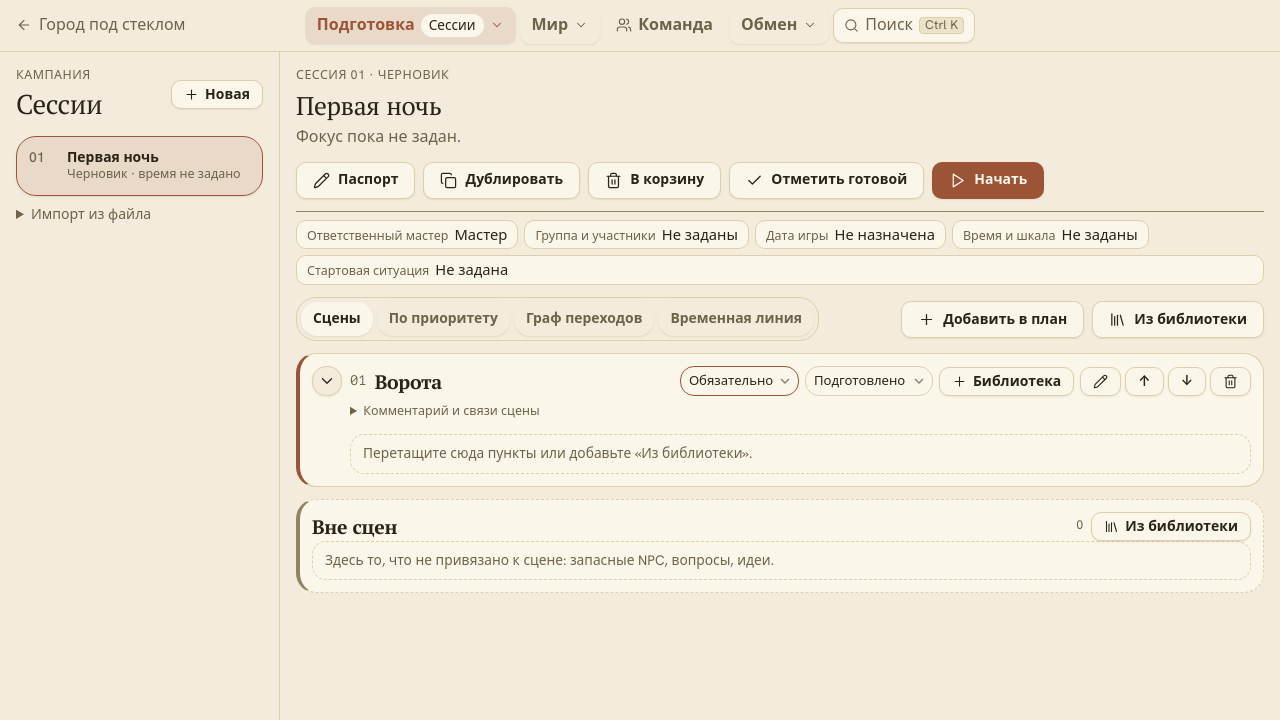
session lifecycle › duplicates a session, trashes it and restores it without reusing its number
The image size is (1280, 720).
Click the button "Дублировать". click: (502, 180)
box: [423, 162, 580, 198]
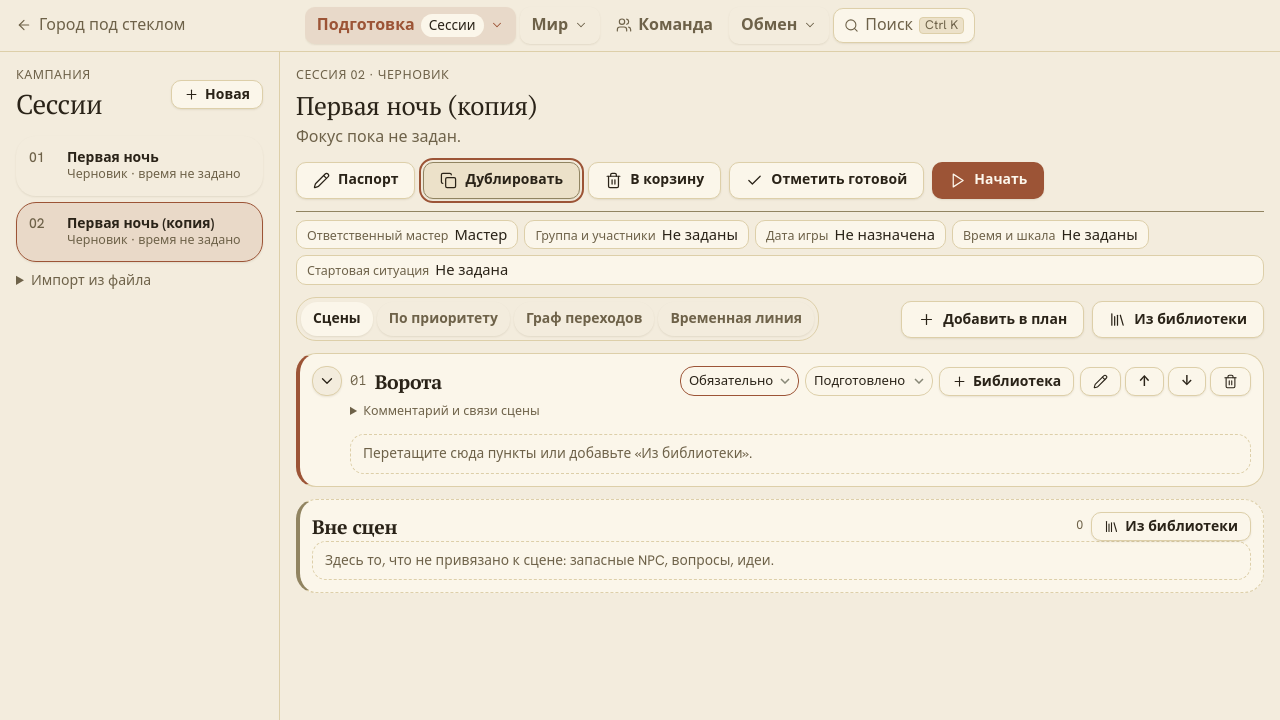
Now the heading "Первая ночь (копия)" is shown, box [296, 85, 537, 122]
Click the button "В корзину". click: (655, 180)
box: [588, 162, 721, 198]
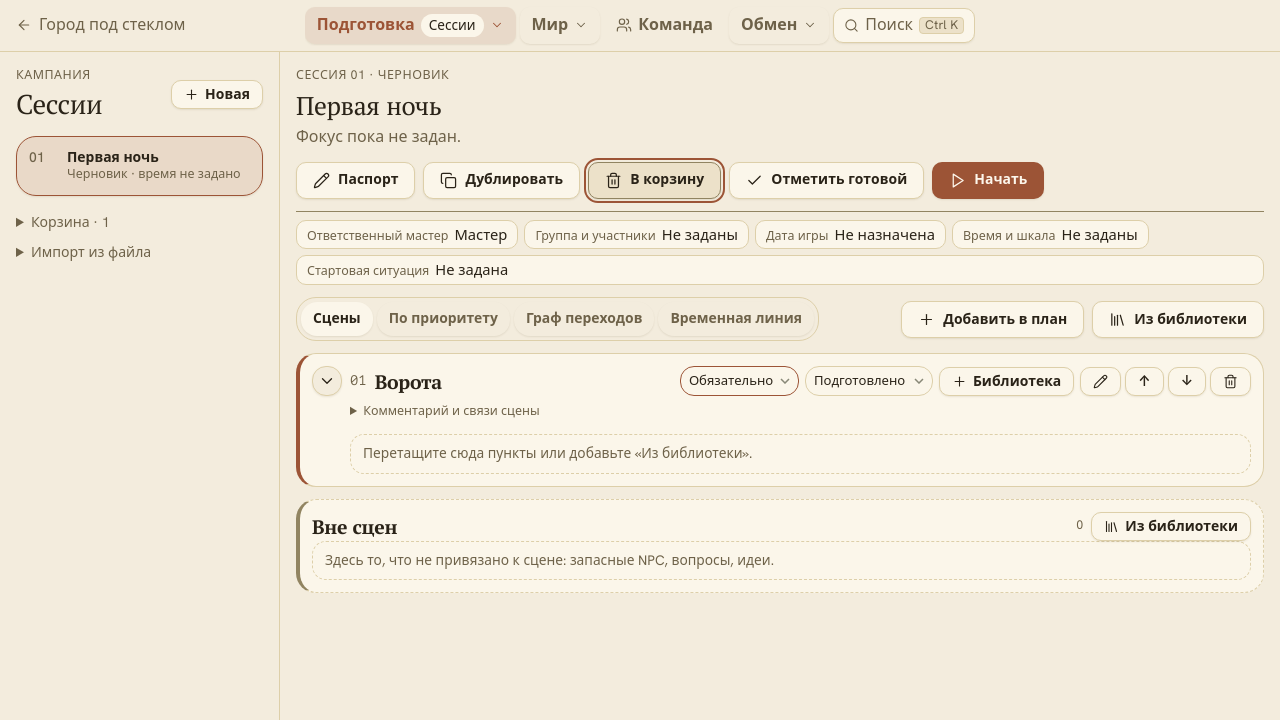
Now the button "Первая ночь (копия)" is gone
Click the heading "Корзина · 1". click: (70, 222)
box: [31, 213, 110, 231]
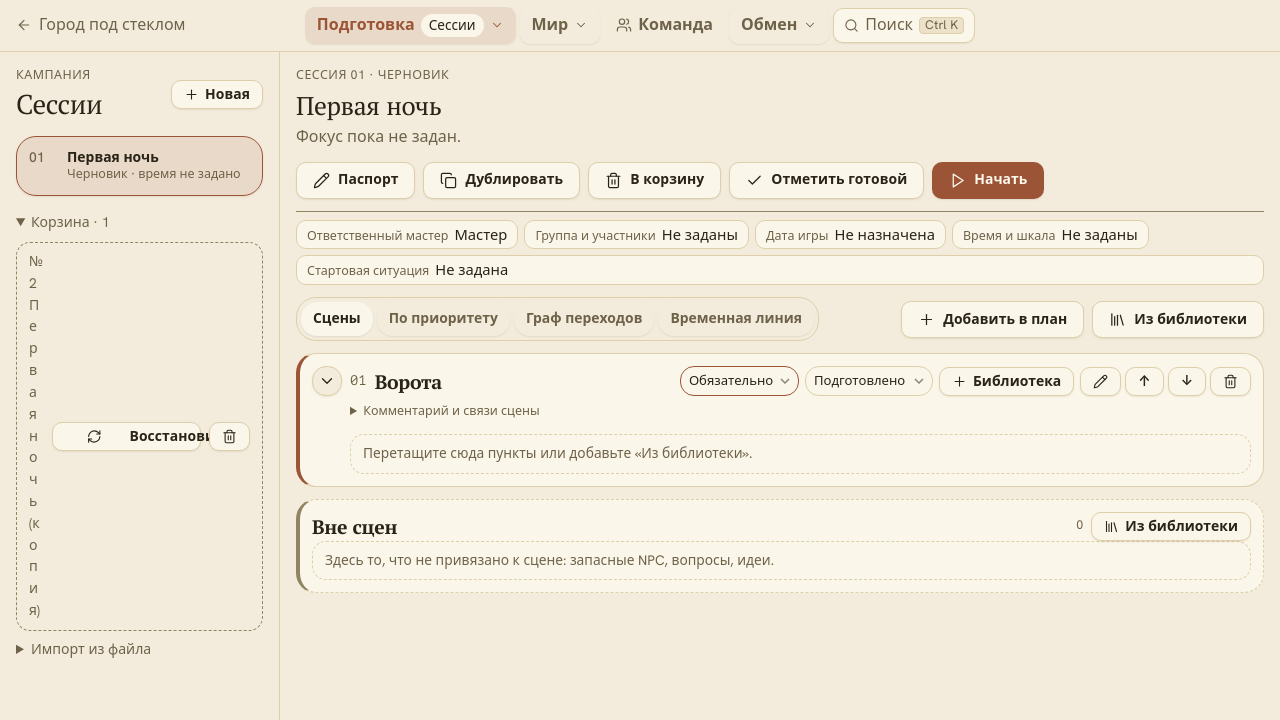
Click the button "Восстановить". click: (126, 436)
box: [52, 422, 201, 451]
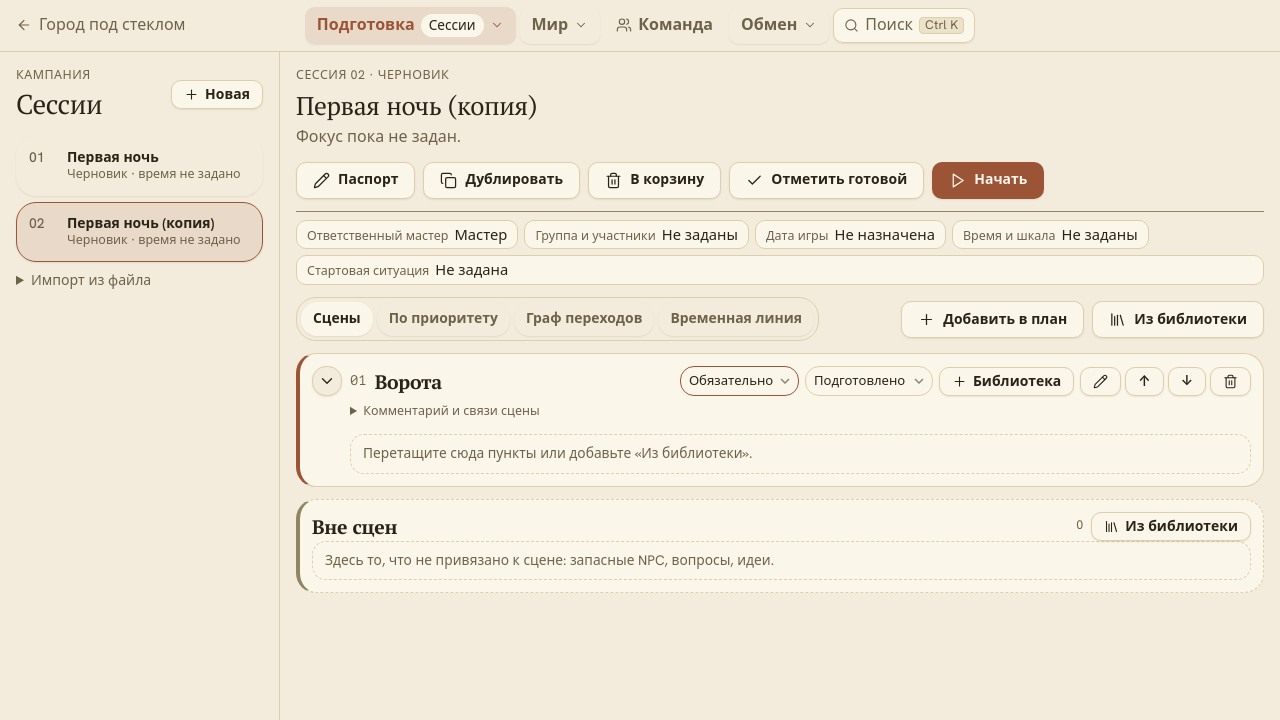
Now the heading "Первая ночь (копия)" is shown, box [296, 85, 537, 122]
Click the button "Новая". click: (217, 94)
box: [171, 80, 263, 109]
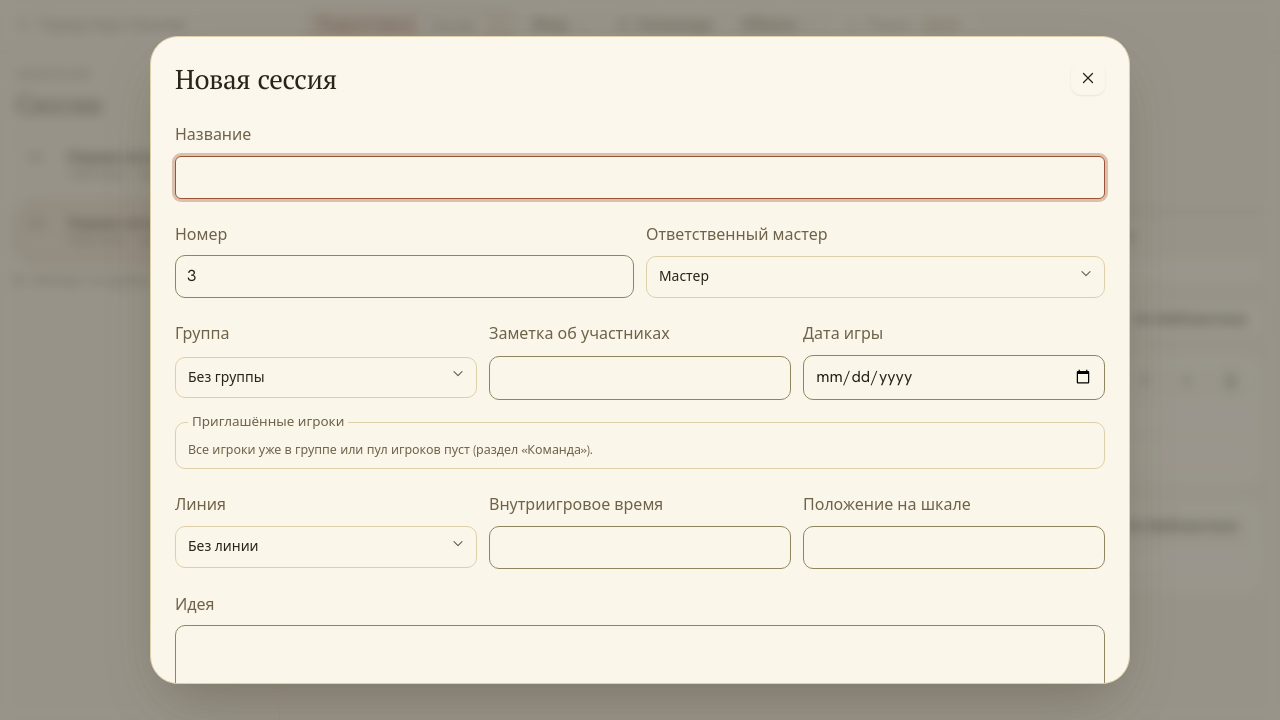
Now the number field labelled "Номер" holds "3", box [175, 255, 634, 298]
